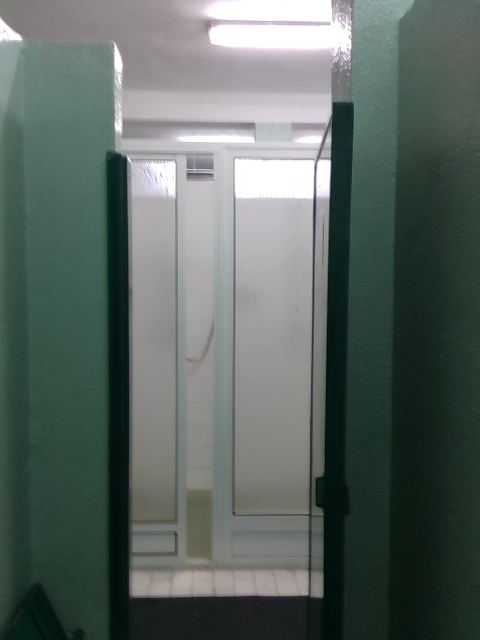open: (308, 104, 348, 632)
